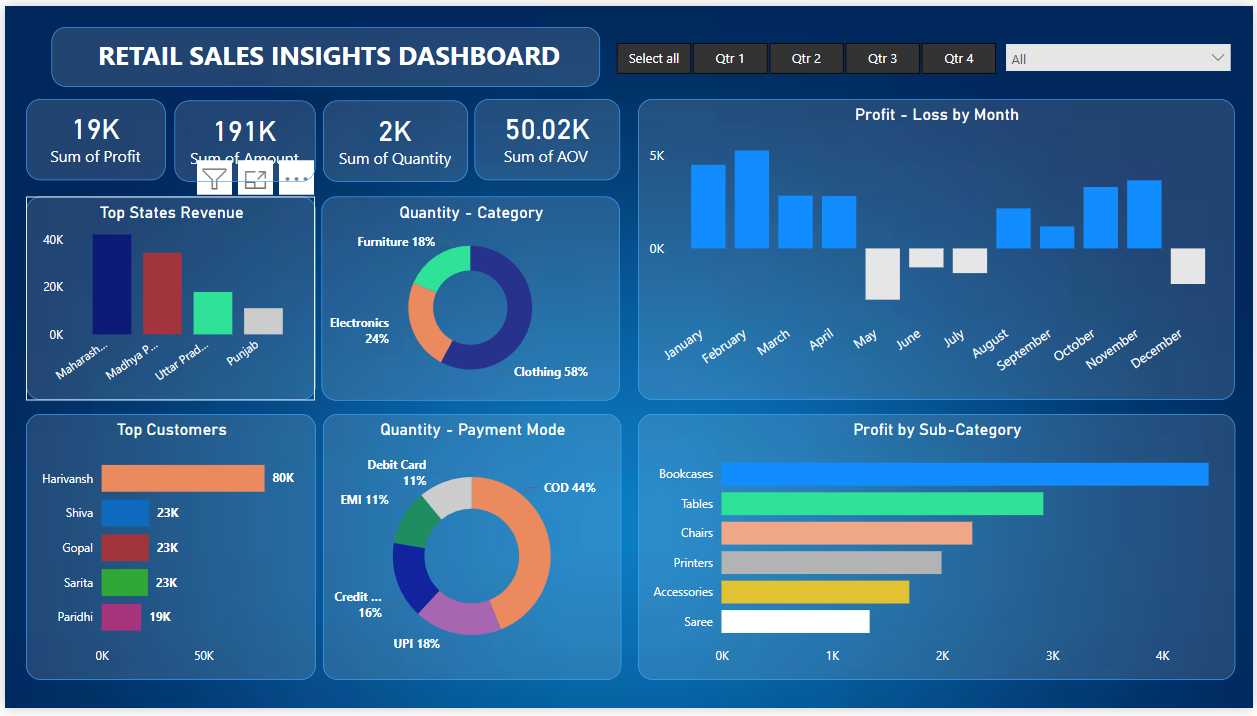

What the dashboard file says about the page in this screenshot:
{"tool":"powerbi","page":{"name":"Page 1","canvas":[1280,720],"ordinal":0},"visuals":[{"type":"textbox","box":[47.5,21.2,562.5,61.2],"z":0},{"type":"columnChart","title":"Profit - Loss by Month","fields":{"Y":["Sum(Details (1).Profit)"],"Category":["Orders.Order Date.Variation.Date Hierarchy.Month"]},"box":[648.9,95.6,612.2,308.9],"z":1000},{"type":"barChart","title":"Profit by Sub-Category","fields":{"Y":["Sum(Details (1).Profit)"],"Category":["Details (1).Sub-Category"]},"box":[648.7,418.7,612.7,272.7],"z":2000},{"type":"donutChart","title":"Quantity - Payment Mode","fields":{"Category":["Details (1).PaymentMode"],"Y":["Sum(Details (1).Quantity)"]},"box":[325.4,418.8,306.2,272.9],"z":3000},{"type":"barChart","title":"Top Customers","fields":{"Category":["Orders.CustomerName"],"Y":["Sum(Details (1).C1)"]},"box":[21.7,418.8,297.5,272.9],"z":4000},{"type":"donutChart","title":"Quantity - Category","fields":{"Category":["Details (1).Category"],"Y":["Sum(Details (1).Quantity)"]},"box":[325.3,195.3,306,209.3],"z":5000},{"type":"columnChart","title":"Top States Revenue","fields":{"Category":["Orders.State"],"Y":["Sum(Details (1).Amount)"]},"box":[21.2,195.6,297.5,208.8],"z":6000},{"type":"slicer","fields":{"Values":["Orders.Order Date.Variation.Date Hierarchy.Quarter"]},"box":[601.1,30,438.9,45.6],"z":7000},{"type":"cardVisual","fields":{"Data":["Sum(Details (1).Profit)"]},"box":[22,95.3,143.3,83.3],"z":8000},{"type":"cardVisual","fields":{"Data":["Sum(Details (1).Amount)"]},"box":[173.3,96.7,144.4,83.3],"z":9000},{"type":"cardVisual","fields":{"Data":["Sum(Details (1).Quantity)"]},"box":[325.6,96.7,148.9,83.3],"z":10000},{"type":"cardVisual","fields":{"Data":["Sum(Details (1).AOV)"]},"box":[482,95.3,149.3,83.3],"z":11000},{"type":"slicer","fields":{"Values":["Orders.State"]},"box":[1021.7,34.2,240,36.7],"z":12000}]}

Visuals, with their boxes in screenshot pixels (x1, y1, x2, y2), scaled from the page's 1280x720 canvas onto the 1257x716 screenshot:
textbox: (47, 21, 599, 82)
"Profit - Loss by Month" columnChart: (637, 95, 1238, 402)
"Profit by Sub-Category" barChart: (637, 416, 1239, 688)
"Quantity - Payment Mode" donutChart: (320, 416, 620, 688)
"Top Customers" barChart: (21, 416, 313, 688)
"Quantity - Category" donutChart: (319, 194, 620, 402)
"Top States Revenue" columnChart: (21, 195, 313, 402)
slicer - Orders.Order Date.Variation.Date Hierarchy.Quarter: (590, 30, 1021, 75)
cardVisual - Sum(Details (1).Profit): (22, 95, 162, 178)
cardVisual - Sum(Details (1).Amount): (170, 96, 312, 179)
cardVisual - Sum(Details (1).Quantity): (320, 96, 466, 179)
cardVisual - Sum(Details (1).AOV): (473, 95, 620, 178)
slicer - Orders.State: (1003, 34, 1239, 71)
